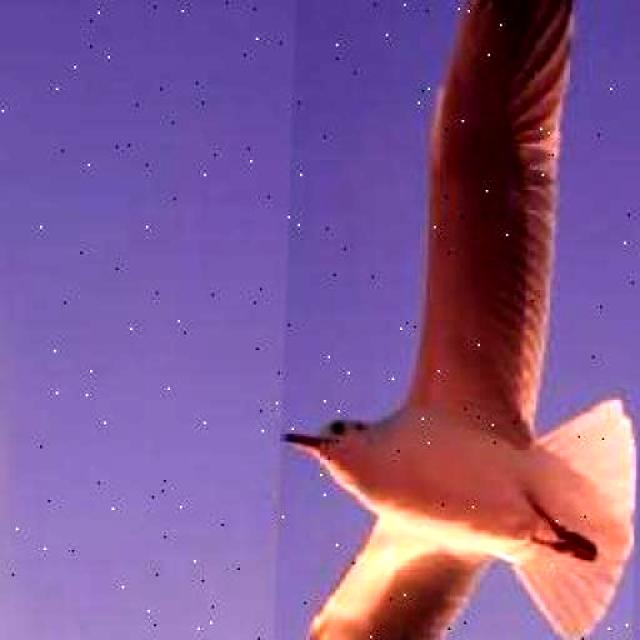airplane: (266, 0, 640, 640)
